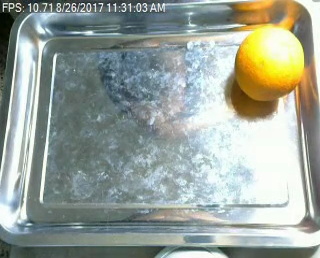Orange: (233, 25, 305, 101)
